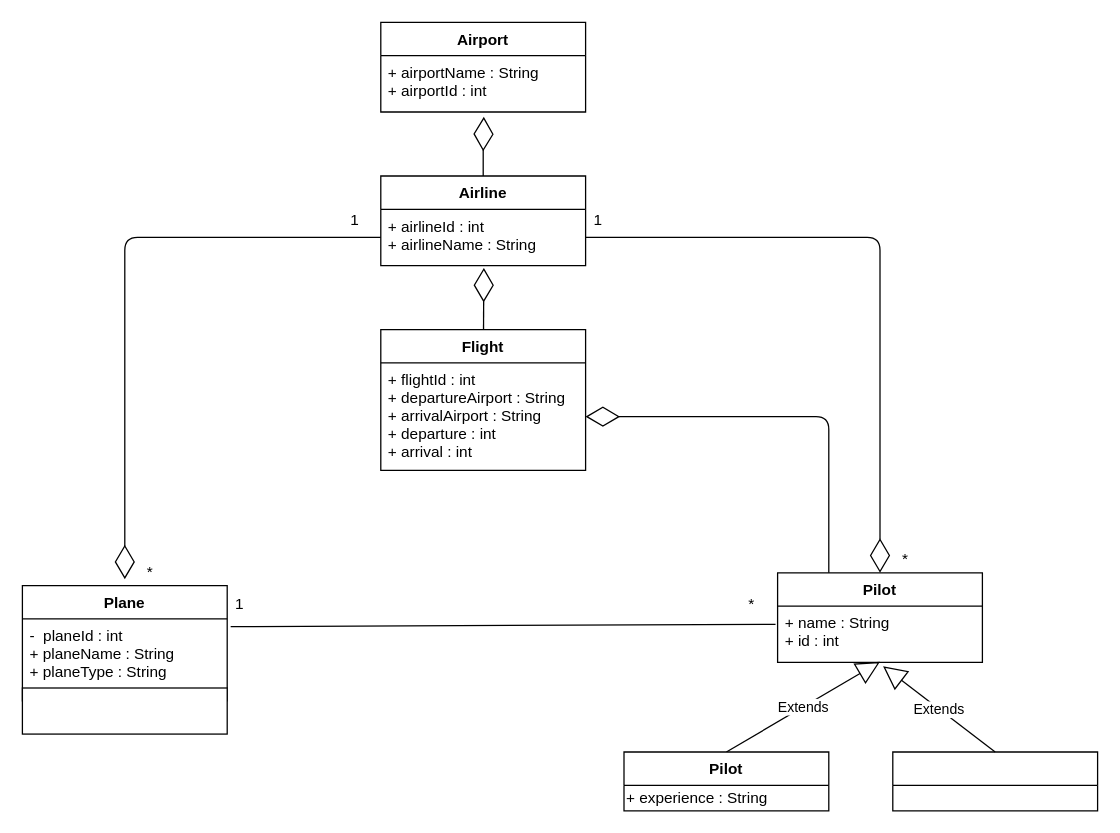
The diagram is 1120 pixels wide and 833 high, and some of its shapes have lost their labels. Here are the shapes that lost their labels. From the top down, the centre of each, then its label:
At [124,710]: "+ isPlaneWorking() : bool".
At [995,781]: "CO-pilot".
